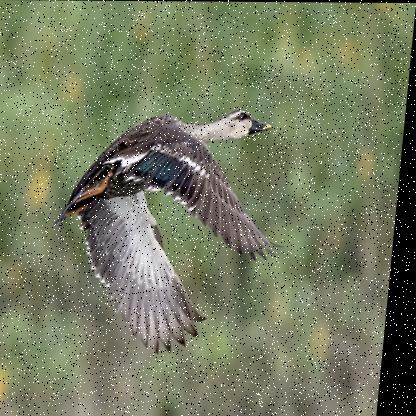Burung: (49, 108, 299, 354)
